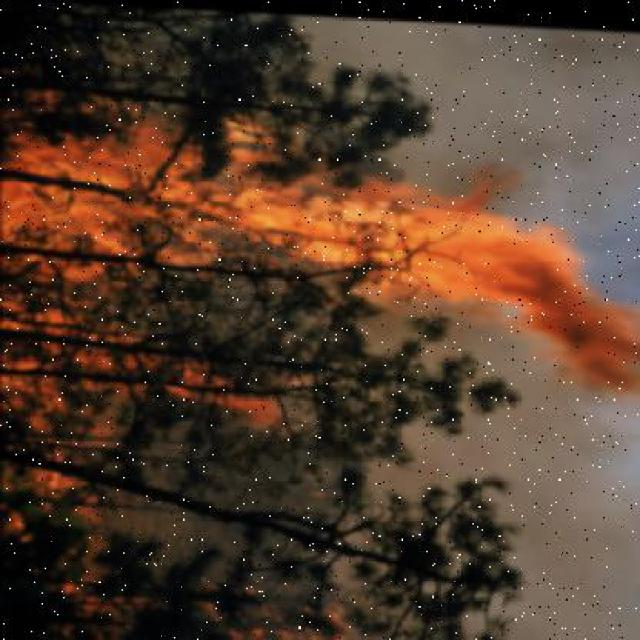fire: (3, 100, 640, 396)
